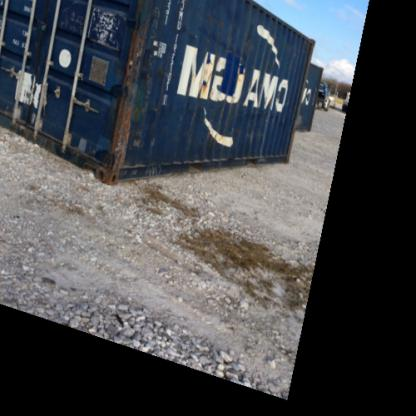Damage: (93, 9, 168, 169), (204, 27, 253, 59), (196, 120, 235, 158), (245, 101, 285, 125), (196, 73, 216, 94)
